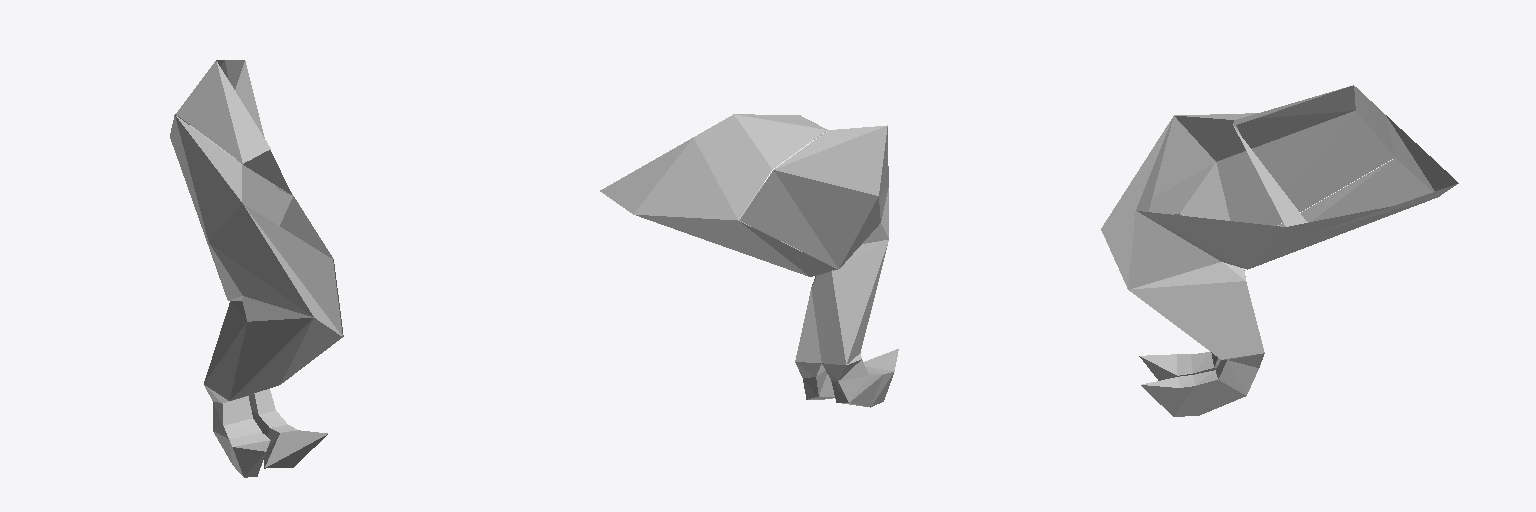
File: brazoIzq.obj
3 views of the same model, side by side, from view 1: azimuth 30°, elevation 25°; view 2: azimuth 150°, elevation 25°; view 3: azimuth 270°, elevation 25° (orthographic).
Parts seen in each view (by area): view 1: polySurface63; view 2: polySurface63; view 3: polySurface63.
Part boxes in pixels (x1,y1,x2,y2): polySurface63: (170, 60, 343, 477); polySurface63: (600, 114, 898, 407); polySurface63: (1101, 85, 1458, 416).
Size of the model in its own units: 12.29 by 25.23 by 24.16.